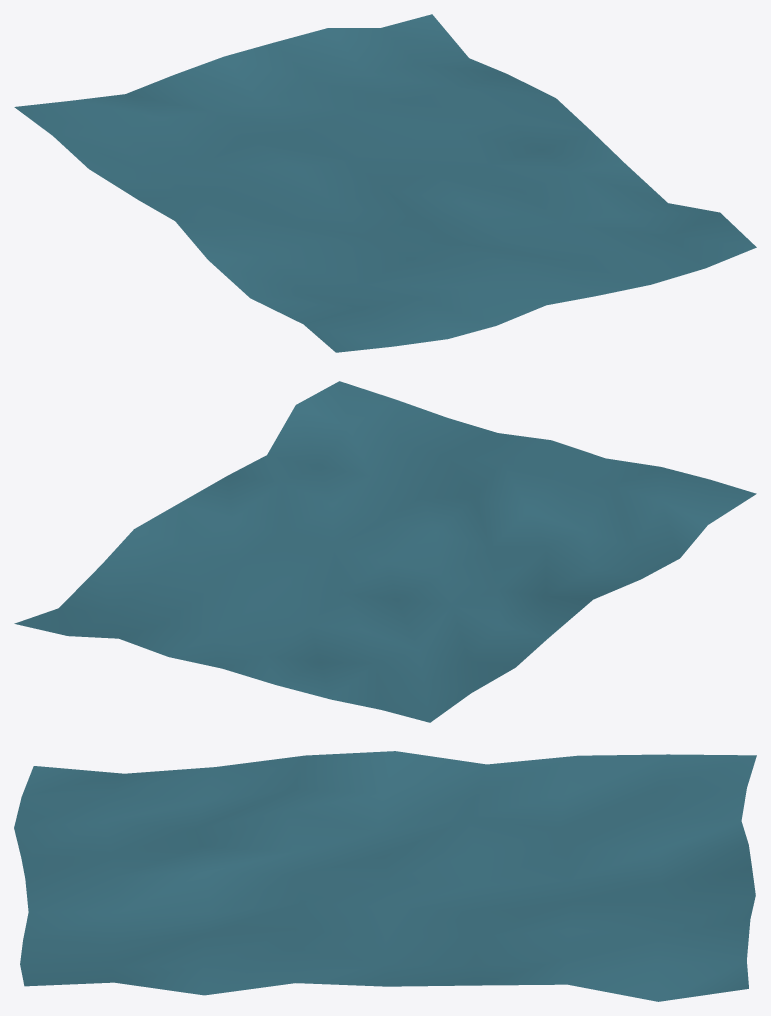
File: SM_SmallTrashkit_Paper_001.fbx
3 views of the same model, one above another, from view 1: azimuth 30°, elevation 25°; view 2: azimuth 150°, elevation 25°; view 3: azimuth 270°, elevation 25° (orthographic). The views are drawn at different scales.
Parts seen in each view (by area): view 1: SM_SmallTrashkit_Paper_001; view 2: SM_SmallTrashkit_Paper_001; view 3: SM_SmallTrashkit_Paper_001.
Part boxes in pixels (x1,y1,x2,y2): SM_SmallTrashkit_Paper_001: (14,14,756,352); SM_SmallTrashkit_Paper_001: (14,381,756,722); SM_SmallTrashkit_Paper_001: (14,751,756,1001).
Size of the model in its own units: 40.47 by 2.22 by 54.41.
